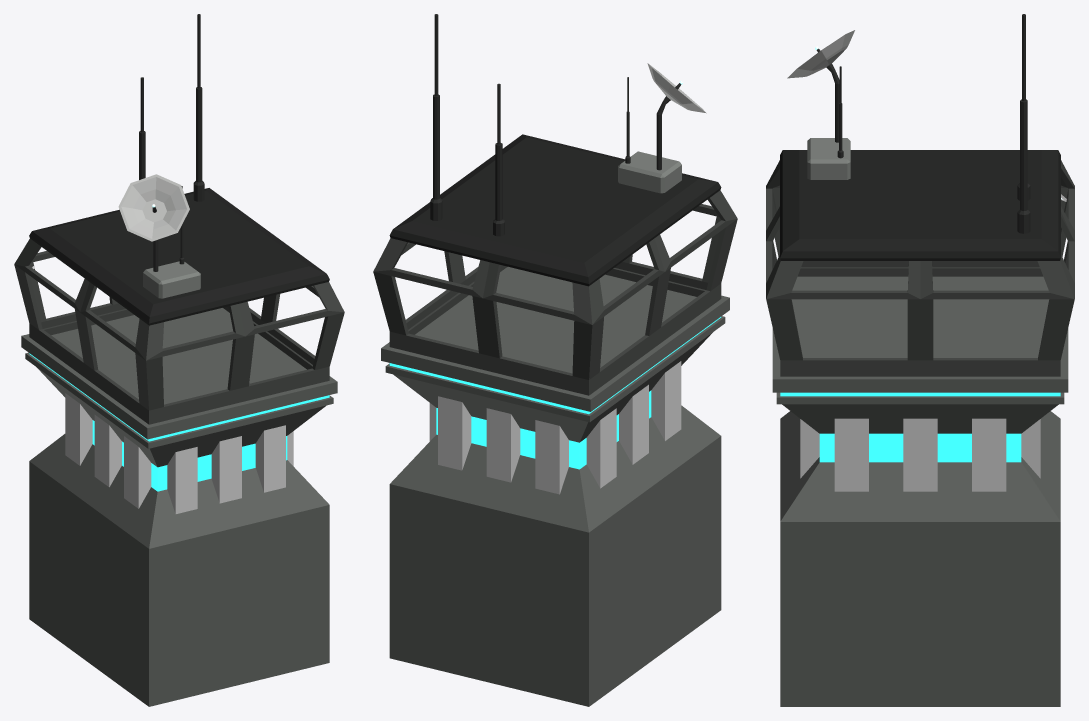
Rendered from bashnya.fbx.
3 renders of one model, left to right at view 1: azimuth 30°, elevation 25°; view 2: azimuth 150°, elevation 25°; view 3: azimuth 270°, elevation 25°, orthographic. The views are drawn at different scales.
Visible parts, largest first — view 1: Плоскость.001, Плоскость.007, Плоскость.002, Куб; view 2: Плоскость.001, Плоскость.007, Плоскость.002, Куб; view 3: Плоскость.001, Плоскость.007, Плоскость.002, Куб.
Boxes of the visible parts, <box> form: Плоскость.001: <box>21,308,337,706</box>; Плоскость.007: <box>29,14,329,325</box>; Плоскость.002: <box>14,238,344,424</box>; Куб: <box>65,393,293,514</box>; Плоскость.001: <box>381,266,729,706</box>; Плоскость.007: <box>389,14,721,286</box>; Плоскость.002: <box>373,190,737,395</box>; Куб: <box>429,361,681,494</box>; Плоскость.001: <box>772,276,1068,706</box>; Плоскость.007: <box>780,14,1060,260</box>; Плоскость.002: <box>766,160,1074,376</box>; Куб: <box>800,418,1040,491</box>.
Bounding box in the file's own units: 7.37 × 20.5 × 8.47.
